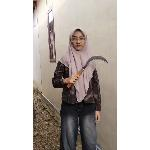Celurit: (69, 54, 111, 92)
